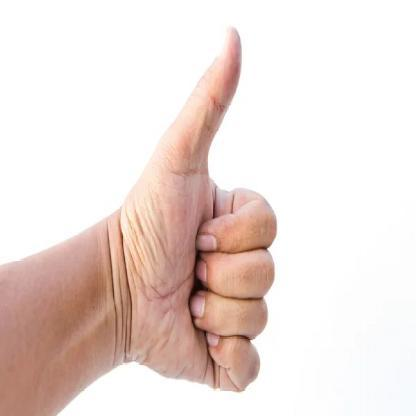thumb_up: (124, 19, 280, 395)
